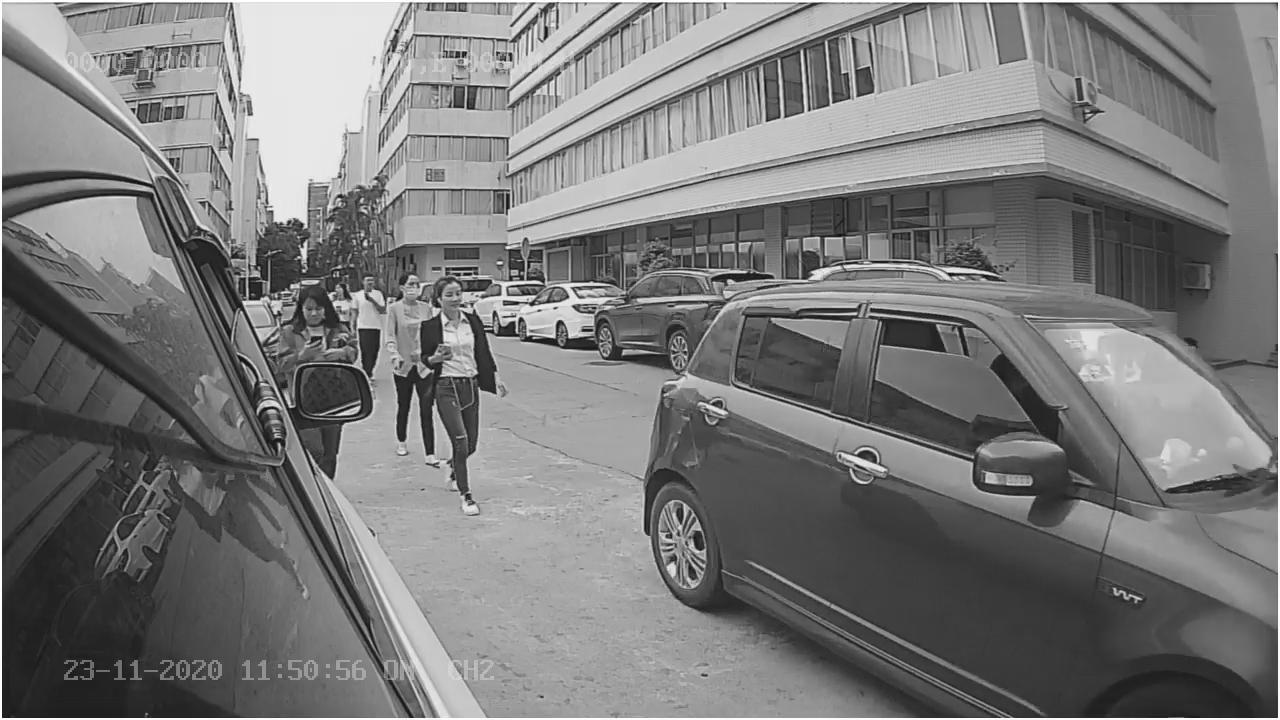person: (417, 278, 513, 515)
